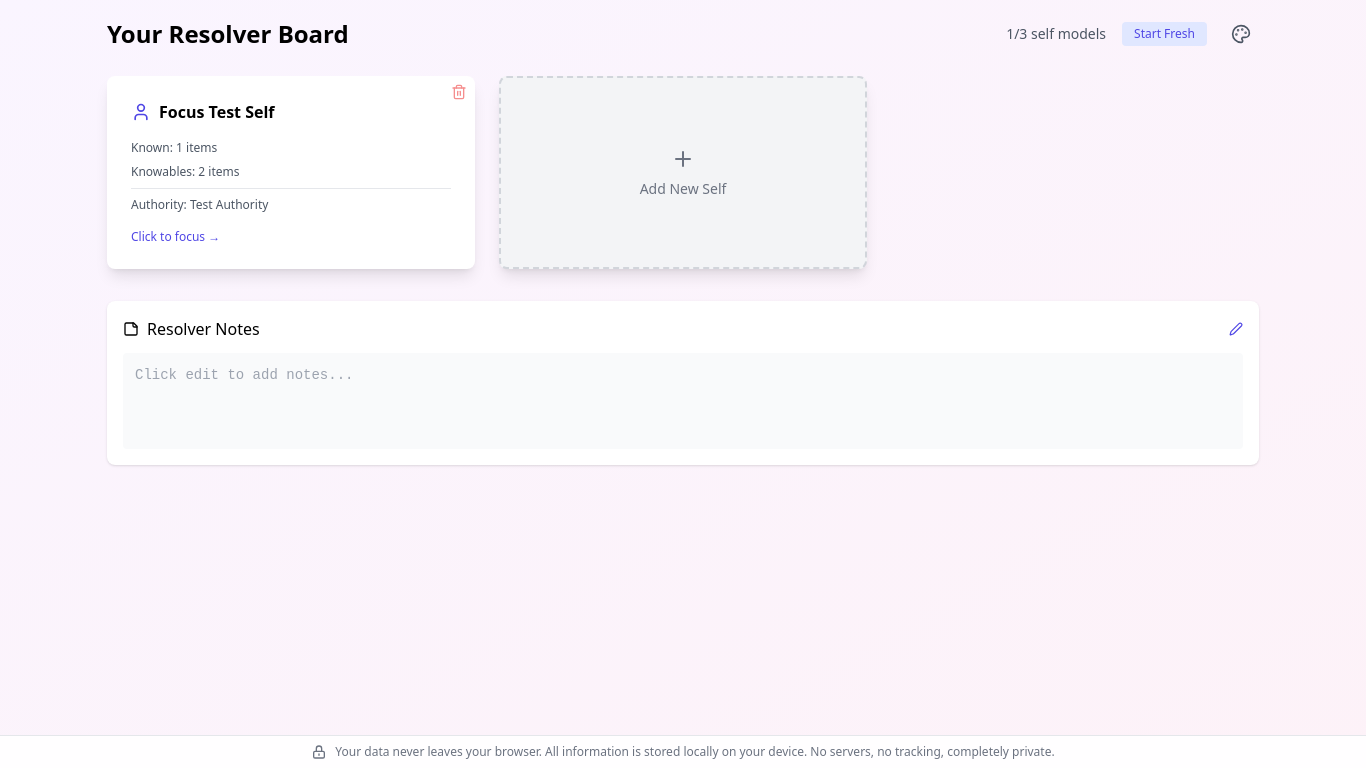
ResolverApp › Focus View › should enter focus view when clicking a self card
This screenshot has width=1366, height=768.
Step 1. Click the heading "Focus Test Self" → click(217, 112), box [159,100,274,124]
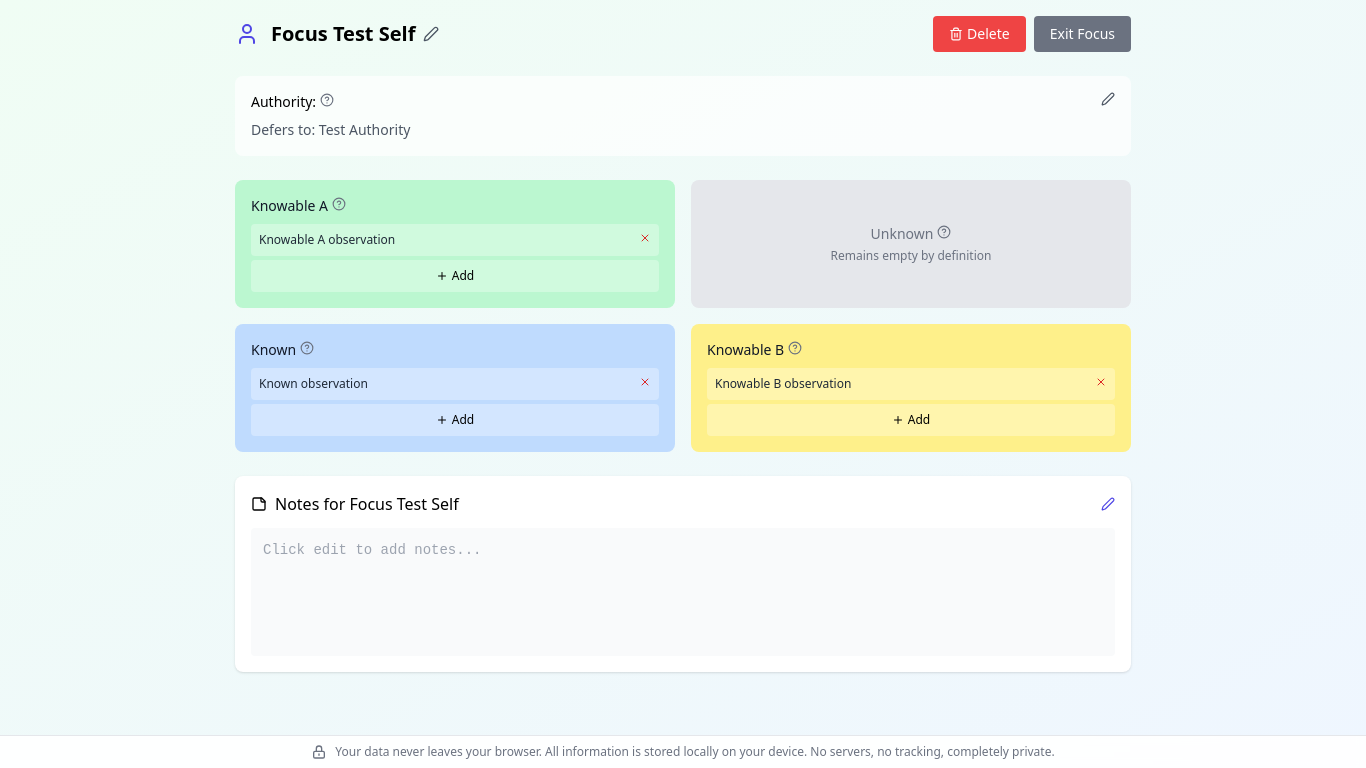
Now the button "Exit Focus" is shown, box [1034,16,1131,52]
Now the text "Known observation" is shown, box [259,375,368,392]
Now the text "Knowable A observation" is shown, box [259,231,395,248]
